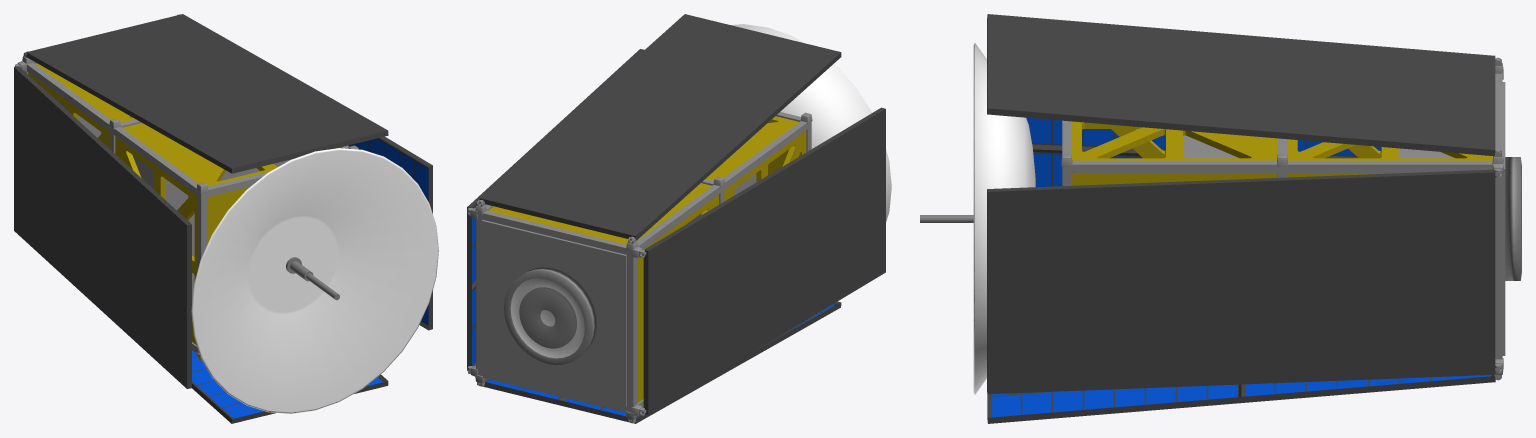
File: sat_2.glb
3 views of the same model, side by side, from view 1: azimuth 30°, elevation 25°; view 2: azimuth 150°, elevation 25°; view 3: azimuth 270°, elevation 25° (orthographic). The views are drawn at different scales.
Parts seen in each view (by area): view 1: Antenna_Dish, Pannel.003, Pannel.004, Cube.001 (×5), Beam.002, Pannel.002, Pannel.001, Cube.004, Support.002, Antenna_Shaft, Beam.005; view 2: Pannel.003, Pannel.004, Cube.002, Cylinder, Cube.001 (×4), Antenna_Dish, Pannel.002, Beam.002, Pannel.001, Support.009, Support.006, Support.005 (+1 smaller); view 3: Pannel.001, Pannel.004, Pannel.002, Cube.001 (×3), Antenna_Dish, Beam.001, Pannel.003, Cylinder, Support.005, Cube.002, Cube.004, Support.009.
Part boxes in pixels (left/top/right/bottom): Antenna_Dish: left=191, top=148, right=438, bottom=413; Pannel.003: left=14, top=66, right=191, bottom=388; Pannel.004: left=26, top=14, right=388, bottom=173; Cube.001 (×5): left=28, top=63, right=339, bottom=344; Beam.002: left=27, top=63, right=197, bottom=195; Pannel.002: left=192, top=350, right=388, bottom=423; Pannel.001: left=348, top=136, right=432, bottom=330; Cube.004: left=132, top=155, right=292, bottom=302; Support.002: left=196, top=182, right=208, bottom=361; Antenna_Shaft: left=286, top=257, right=339, bottom=300; Beam.005: left=205, top=171, right=269, bottom=196; Pannel.003: left=642, top=107, right=885, bottom=414; Pannel.004: left=479, top=14, right=841, bottom=240; Cube.002: left=481, top=220, right=626, bottom=406; Cylinder: left=504, top=267, right=596, bottom=365; Cube.001 (×4): left=488, top=116, right=806, bottom=403; Antenna_Dish: left=731, top=24, right=891, bottom=221; Pannel.002: left=479, top=301, right=841, bottom=423; Beam.002: left=636, top=121, right=807, bottom=249; Pannel.001: left=467, top=49, right=644, bottom=371; Support.009: left=471, top=207, right=642, bottom=257; Support.006: left=626, top=241, right=637, bottom=419; Support.005: left=475, top=205, right=486, bottom=383; Pannel.001: left=987, top=169, right=1499, bottom=394; Pannel.004: left=987, top=14, right=1499, bottom=156; Pannel.002: left=987, top=375, right=1495, bottom=423; Cube.001 (×3): left=1071, top=121, right=1492, bottom=185; Antenna_Dish: left=973, top=43, right=1035, bottom=394; Beam.001: left=1069, top=160, right=1492, bottom=172; Pannel.003: left=1026, top=117, right=1381, bottom=187; Cylinder: left=1505, top=157, right=1521, bottom=280; Support.005: left=1492, top=154, right=1503, bottom=374; Cube.002: left=1502, top=82, right=1505, bottom=355; Cube.004: left=1183, top=135, right=1239, bottom=158; Support.009: left=1492, top=69, right=1503, bottom=175.
Bounding box in the file's own units: 3.42 × 3.42 × 5.83.
